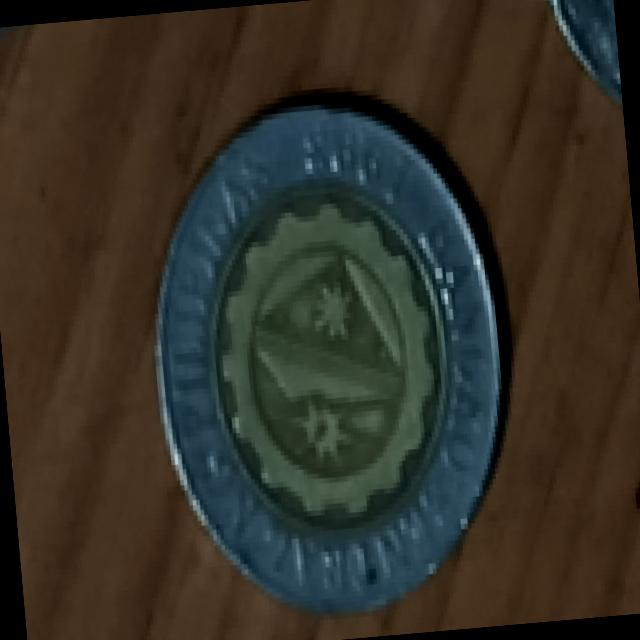10_peso: (157, 107, 498, 606)
